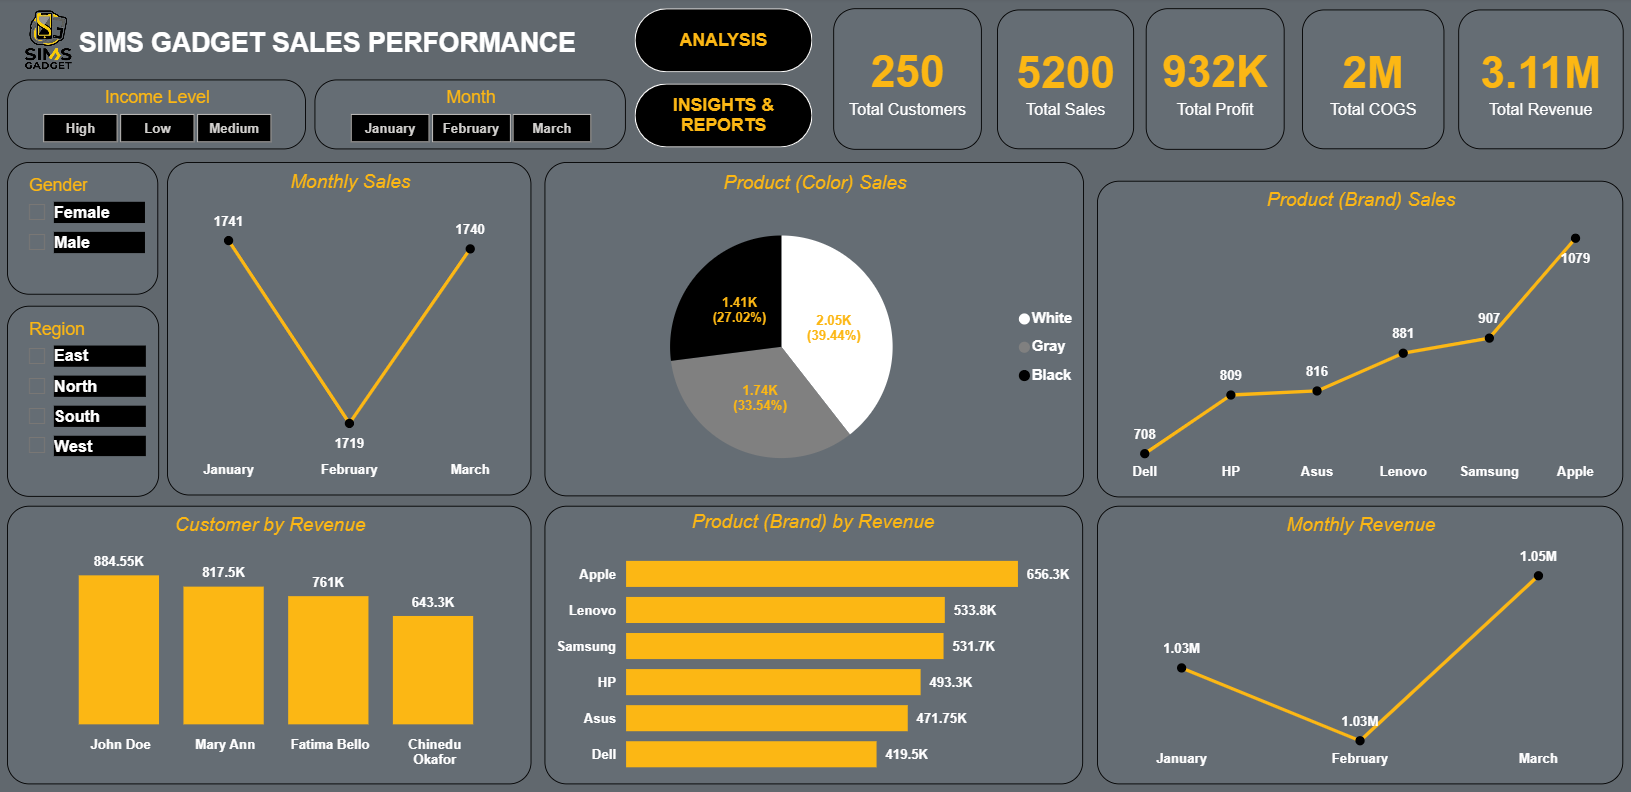

What the dashboard file says about the page in this screenshot:
{"tool":"powerbi","page":{"name":"ANALYSIS","canvas":[1480,720],"ordinal":0},"visuals":[{"type":"clusteredBarChart","title":"Product (Brand) by Revenue","fields":{"Category":["Products.Brand","Products.Product Name"],"Y":["Sum(Sales.Revenue)"]},"box":[495.4,459.8,487.4,251.7],"z":0},{"type":"pieChart","title":"Product (Color) Sales","fields":{"Category":["Products.Color"],"Y":["Sales.Total Purchase"]},"box":[495,149.6,487.9,302.7],"z":1000},{"type":"lineChart","title":"Monthly Sales","fields":{"Category":["Sales.Sale Date.Variation.Date Hierarchy.Month"],"Y":["Sales.Total Purchase"]},"box":[154.3,149.6,330,301.5],"z":2000},{"type":"lineChart","title":"Monthly Revenue","fields":{"Category":["Sales.Sale Date.Variation.Date Hierarchy.Month"],"Y":["Sum(Sales.Revenue)"]},"box":[995.4,459.8,475.9,251.7],"z":3000},{"type":"lineChart","title":"Product (Brand) Sales","fields":{"Category":["Products.Brand"],"Y":["Sales.Total Purchase"]},"box":[995,166.2,476,286.1],"z":4000},{"type":"card","fields":{"Values":["Sum(Sales.Revenue)"]},"box":[1321.7,11.3,149.2,126.6],"z":5000},{"type":"card","fields":{"Values":["Sum(Sales.COGS)"]},"box":[1180.4,11.3,128.9,126.6],"z":6000},{"type":"card","fields":{"Values":["Sum(Sales.Profit)"]},"box":[1039.1,10.2,125.5,127.8],"z":7000},{"type":"card","fields":{"Values":["Customers.Total Customers"]},"box":[756.4,10.2,134.5,127.8],"z":8000},{"type":"textbox","box":[55.8,23.7,486.7,54.6],"z":9000},{"type":"slicer","fields":{"Values":["Customers.Gender"]},"box":[9.5,149.6,136.5,119.9],"z":10000},{"type":"slicer","fields":{"Values":["Customers.Region"]},"box":[8.8,278.8,137.5,172.5],"z":11000},{"type":"columnChart","title":"Customer by Revenue","fields":{"Category":["Customers.Customer Name"],"Y":["Sum(Sales.Revenue)"]},"box":[9.2,459.8,474.7,251.7],"z":12000},{"type":"card","fields":{"Values":["Sales.Total Purchase"]},"box":[904.5,11.3,124.4,126.6],"z":13000},{"type":"slicer","title":"Month","fields":{"Values":["Sales.Sale Date.Variation.Date Hierarchy.Month"]},"box":[287.3,74.8,281.3,62.9],"z":14000},{"type":"slicer","title":"Income Level","fields":{"Values":["Customers.Income Level"]},"box":[9,74.6,270.2,63.3],"z":15000},{"type":"image","box":[0,1.2,92.6,76],"z":16000},{"type":"pageNavigator","box":[576.6,10.2,161.7,127.8],"z":17000}]}

Visuals, with their boxes in screenshot pixels (x1, y1, x2, y2), scaled from the page's 1480x720 canvas onto the 1631x792 screenshot:
"Product (Brand) by Revenue" clusteredBarChart: 546, 506, 1083, 783
"Product (Color) Sales" pieChart: 546, 165, 1083, 498
"Monthly Sales" lineChart: 170, 165, 534, 496
"Monthly Revenue" lineChart: 1097, 506, 1621, 783
"Product (Brand) Sales" lineChart: 1097, 183, 1621, 498
card - Sum(Sales.Revenue): 1457, 12, 1621, 152
card - Sum(Sales.COGS): 1301, 12, 1443, 152
card - Sum(Sales.Profit): 1145, 11, 1283, 152
card - Customers.Total Customers: 834, 11, 982, 152
textbox: 61, 26, 598, 86
slicer - Customers.Gender: 10, 165, 161, 296
slicer - Customers.Region: 10, 307, 161, 496
"Customer by Revenue" columnChart: 10, 506, 533, 783
card - Sales.Total Purchase: 997, 12, 1134, 152
"Month" slicer: 317, 82, 627, 151
"Income Level" slicer: 10, 82, 308, 152
image: 0, 1, 102, 85
pageNavigator: 635, 11, 814, 152
